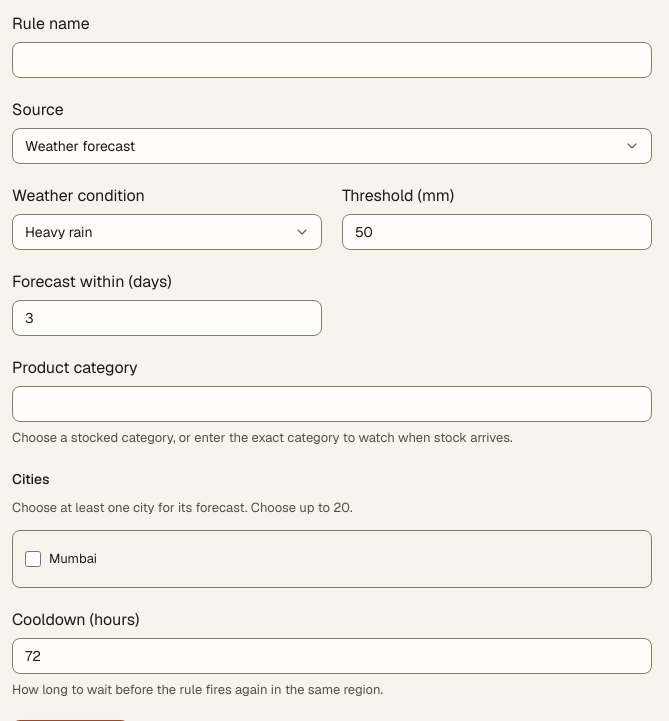
Scenario: switches sources and units, showing only the relevant condition fields
This screenshot has width=669, height=721.
Expected: the field labelled "Maharashtra" is not shown
Select "Heatwave" in the dropdown labelled "Weather condition" at (167,232), box [12,214,322,250]
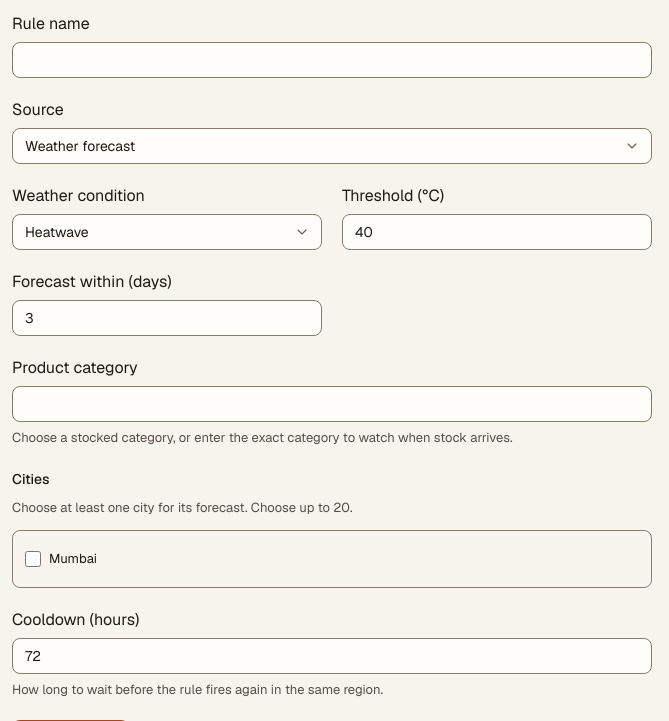
Expected: the number field labelled "Threshold (°C)" holds "40", [342,214,652,250]
Select "Festival or event" in the dropdown labelled "Source" at (332,146), box [12,128,652,164]
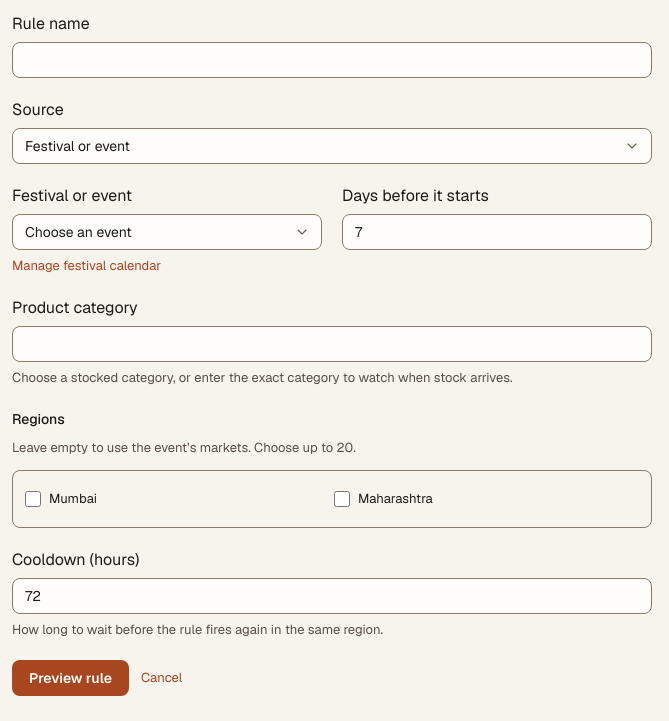
Expected: the checkbox labelled "Maharashtra" is shown, [334,491,350,507]
Expected: the label labelled "Threshold" is gone
Expected: the dropdown labelled "Festival or event" is shown, [12,214,322,250]
Select "Stock level" in the dropdown labelled "Source" at (332,146), box [12,128,652,164]
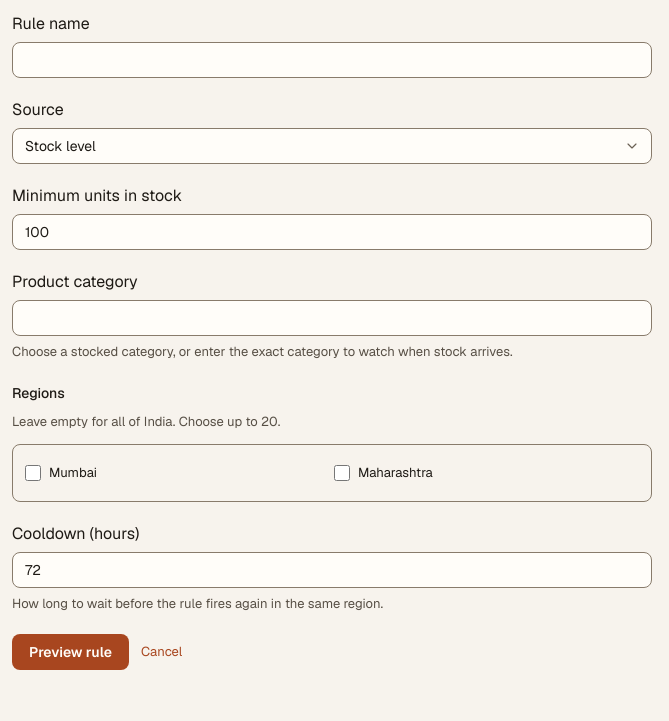
Expected: the label labelled "Festival or event" is gone
Expected: the number field labelled "Minimum units in stock" is shown, [12,214,652,250]
